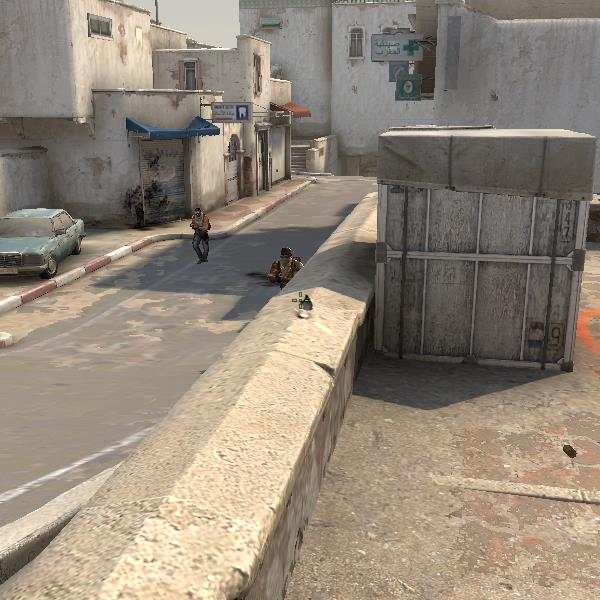t_body: (256, 243, 309, 285)
t_head: (274, 244, 296, 266)
